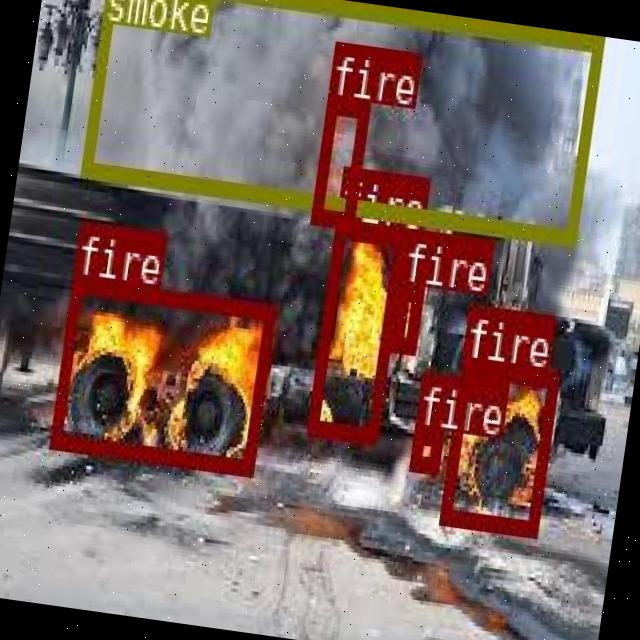fire: (49, 276, 275, 472), (306, 219, 404, 442), (438, 357, 558, 533), (310, 94, 368, 224), (389, 282, 423, 352), (408, 426, 442, 470)
smoke: (78, 0, 603, 245)
